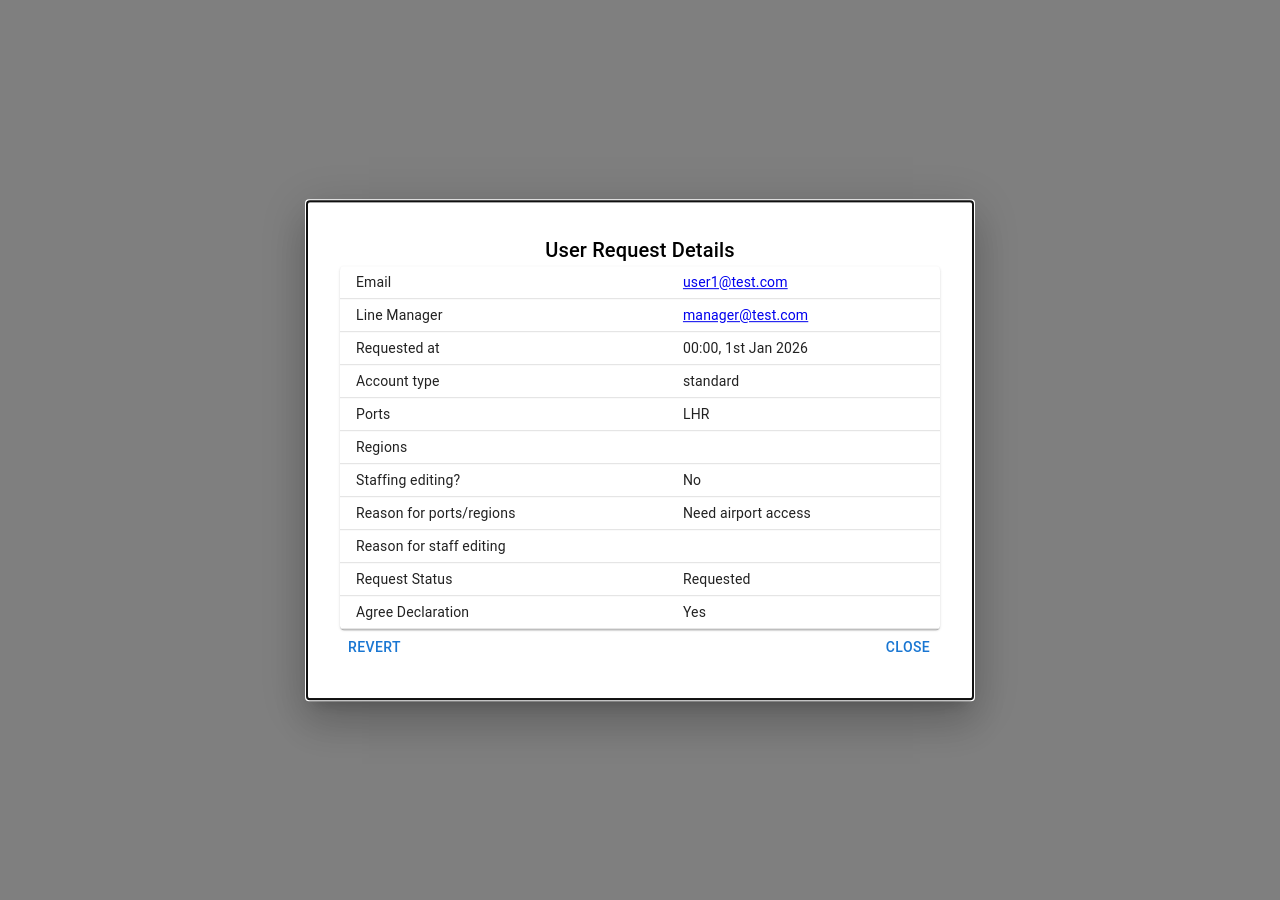
Scenario: <AccessRequestDetails /> › shows a revert failure confirmation when the revert request fails
Click the button "Revert" at (374, 648), box x1=340 y1=629 x2=409 y2=666
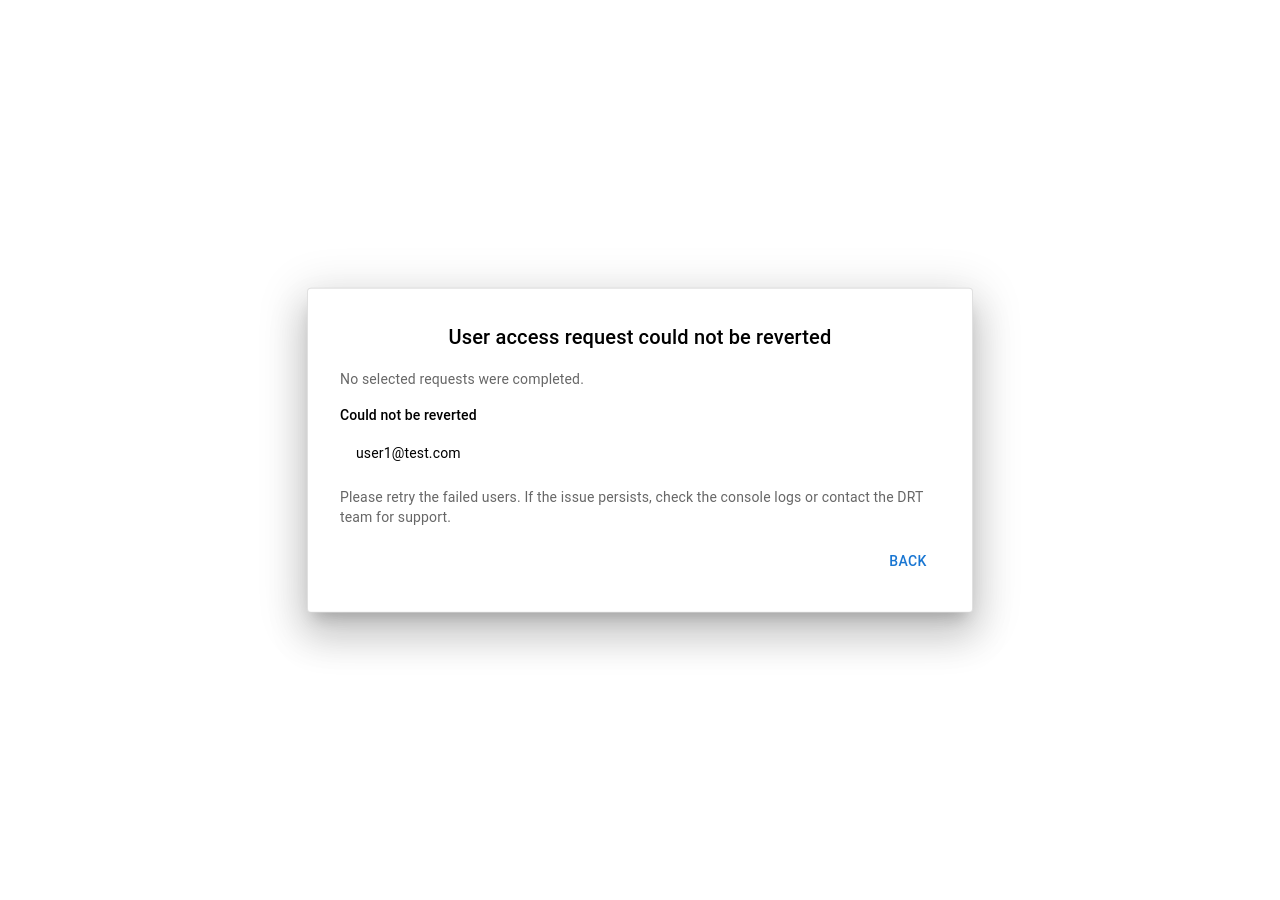
Now the heading "User access request could not be reverted" is shown, box x1=449 y1=325 x2=832 y2=349
Now the text "No selected requests were completed." is shown, box x1=340 y1=371 x2=584 y2=387
Now the heading "Could not be reverted" is shown, box x1=340 y1=407 x2=477 y2=423
